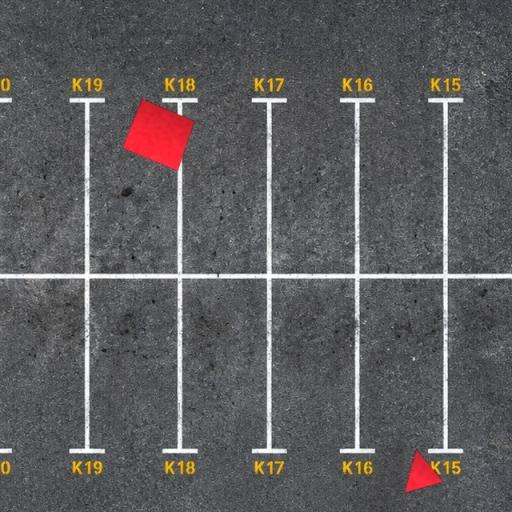RED_SQUARE: (122, 98, 195, 172)
